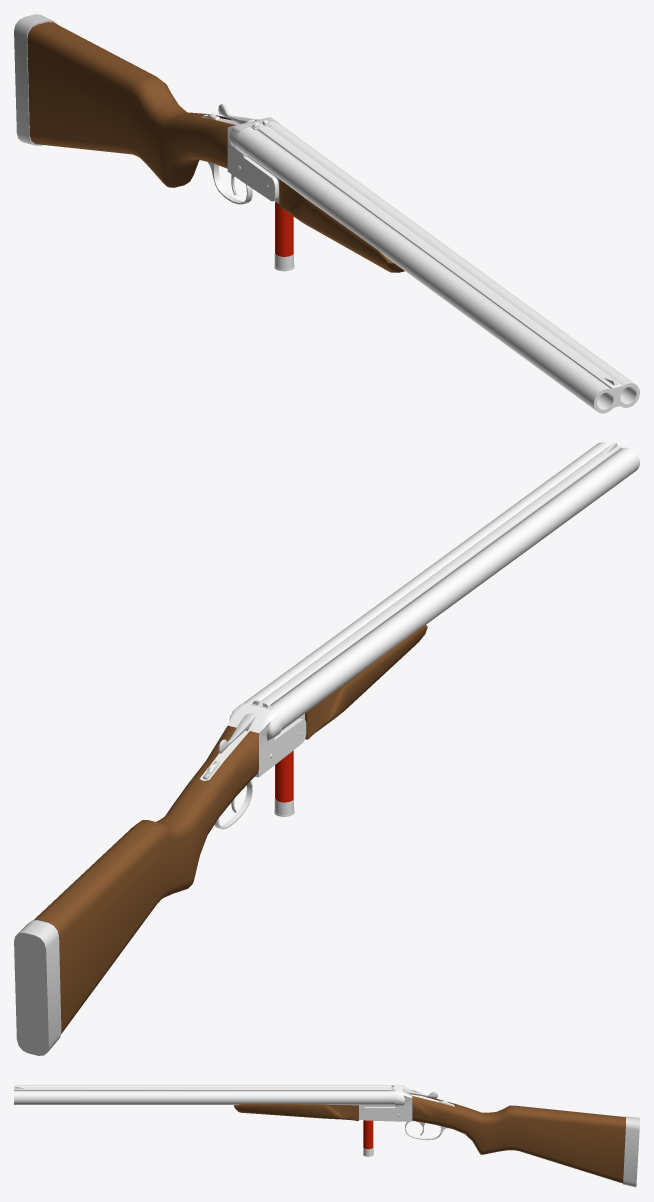
The model's file is DoubleBarreledShotgun.fbx.
3 views of the same model, one above another, from view 1: azimuth 30°, elevation 25°; view 2: azimuth 150°, elevation 25°; view 3: azimuth 270°, elevation 25° (orthographic). The views are drawn at different scales.
Visible parts, largest first — view 1: Barrel, Stock, 12GaugeShell; view 2: Stock, Barrel, 12GaugeShell; view 3: Stock, Barrel, 12GaugeShell.
Boxes of the visible parts, x1,y1,x2,y2 form: Barrel: [236, 120, 639, 413]; Stock: [14, 14, 279, 204]; 12GaugeShell: [274, 203, 294, 271]; Stock: [14, 703, 306, 1055]; Barrel: [243, 442, 639, 739]; 12GaugeShell: [274, 750, 294, 816]; Stock: [361, 1084, 639, 1187]; Barrel: [14, 1085, 395, 1120]; 12GaugeShell: [363, 1120, 373, 1156].
Size of what is drawn, in the model's own units: 5.21 by 20.06 by 115.
